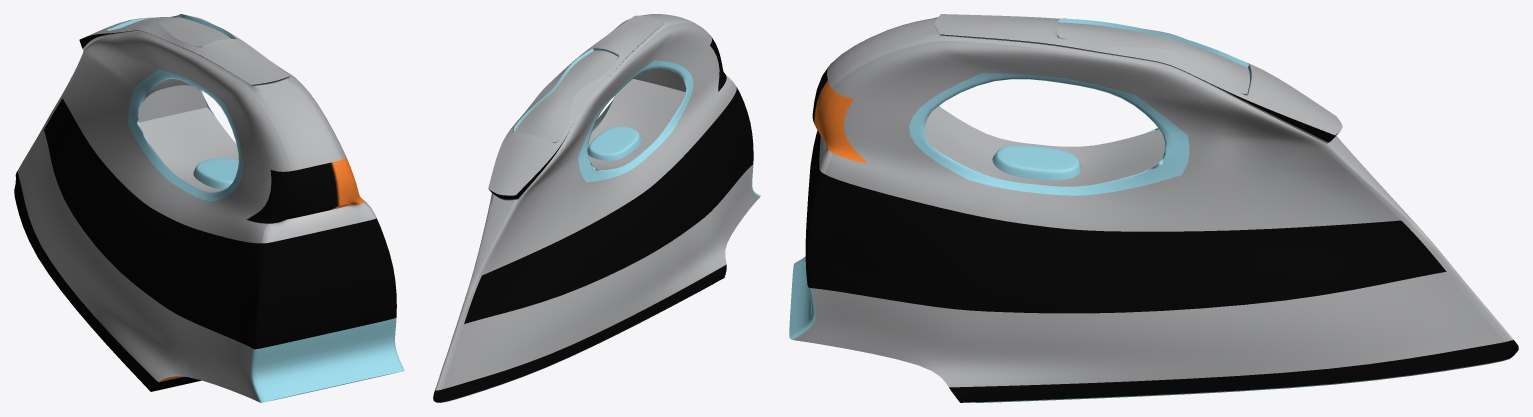
The model's file is plancha1.obj.
3 renders of one model, left to right at view 1: azimuth 30°, elevation 25°; view 2: azimuth 150°, elevation 25°; view 3: azimuth 270°, elevation 25°, orthographic. The views are drawn at different scales.
Visible parts, largest first — view 1: 10274_Clothes_Iron_v1_iterations-2; view 2: 10274_Clothes_Iron_v1_iterations-2; view 3: 10274_Clothes_Iron_v1_iterations-2.
Boxes of the visible parts, bbox=[...] form: 10274_Clothes_Iron_v1_iterations-2: bbox=[14, 14, 404, 402]; 10274_Clothes_Iron_v1_iterations-2: bbox=[433, 14, 760, 402]; 10274_Clothes_Iron_v1_iterations-2: bbox=[789, 14, 1518, 402].
Size of the model in its own units: 0.3369 by 0.4558 by 0.9172.
